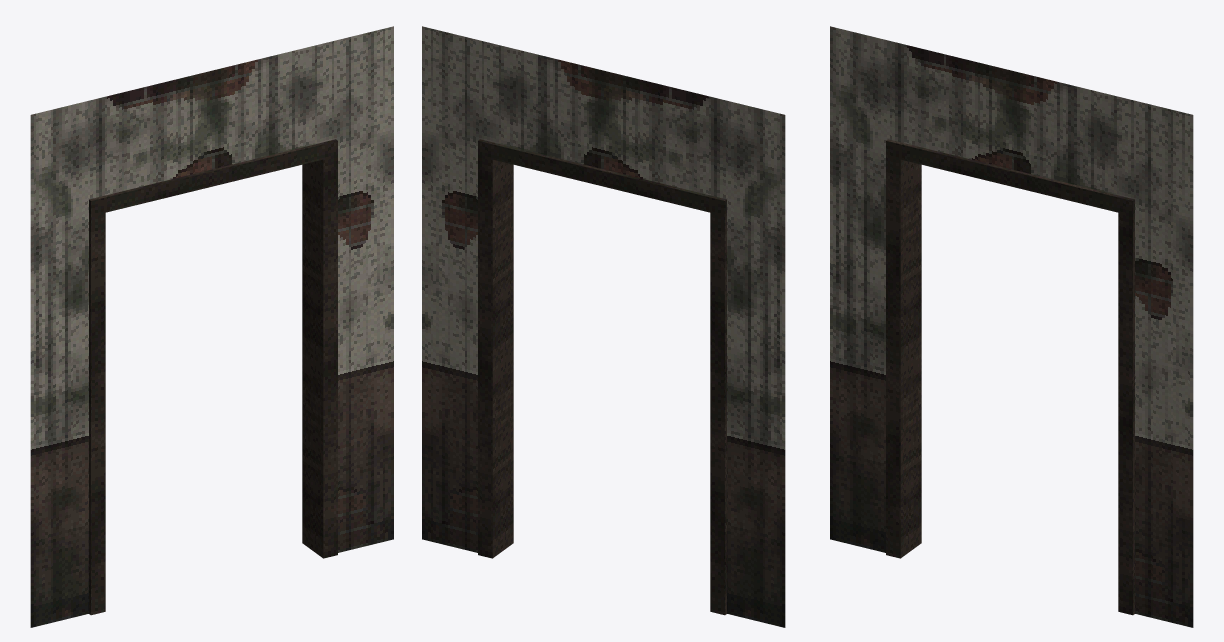
File: int_door.gltf
3 renders of one model, left to right at view 1: azimuth 30°, elevation 25°; view 2: azimuth 150°, elevation 25°; view 3: azimuth 330°, elevation 25°, orthographic.
Visible parts, largest first — view 1: int_door; view 2: int_door; view 3: int_door.
Part boxes in pixels (x1,y1,x2,y2): int_door: [30, 26, 393, 627]; int_door: [422, 26, 785, 627]; int_door: [830, 26, 1193, 627].
Size of what is drawn, in the model's own units: 2 by 2.7 by 0.2.
2 materials, 2 textured.
